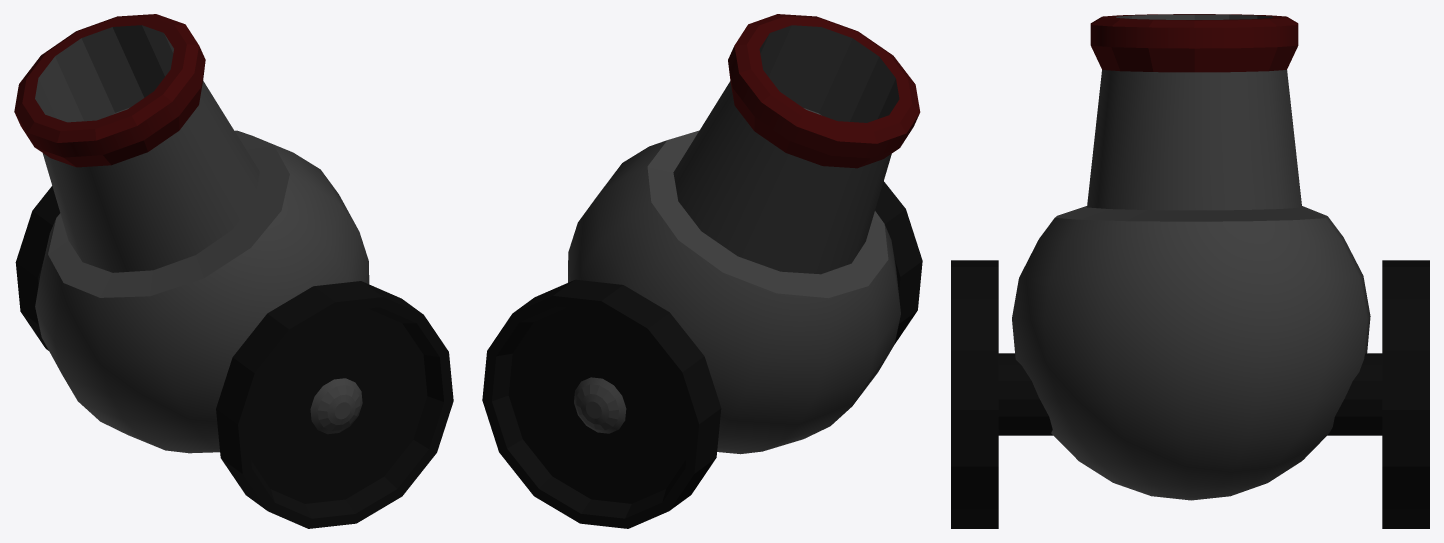
File: canonBody.fbx
3 views of the same model, side by side, from view 1: azimuth 30°, elevation 25°; view 2: azimuth 150°, elevation 25°; view 3: azimuth 270°, elevation 25° (orthographic). The views are drawn at different scales.
Visible parts, largest first — view 1: canonBody, wheels; view 2: canonBody, wheels; view 3: canonBody, wheels.
Part boxes in pixels (<box>): canonBody: <box>14,14,369,453</box>; wheels: <box>15,186,453,528</box>; canonBody: <box>568,14,920,454</box>; wheels: <box>482,181,922,528</box>; canonBody: <box>1012,14,1370,500</box>; wheels: <box>951,260,1429,528</box>.
Size of the model in its own units: 4.17 by 5.42 by 5.05.
